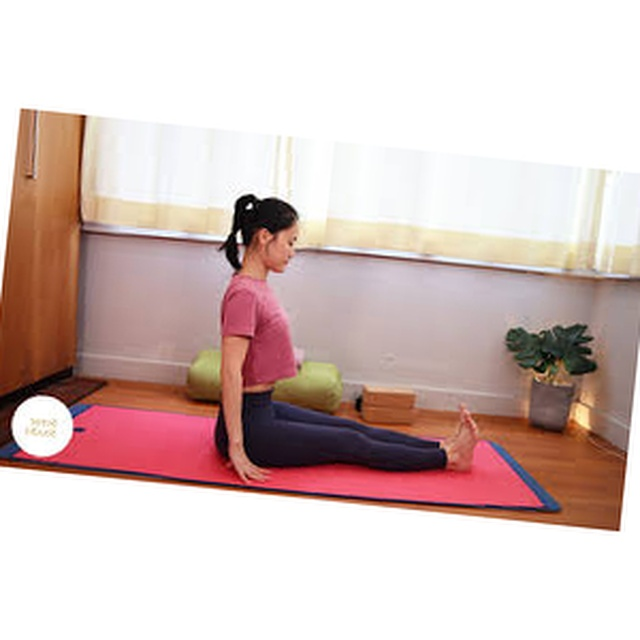Staff_Pose: (215, 193, 480, 488)
